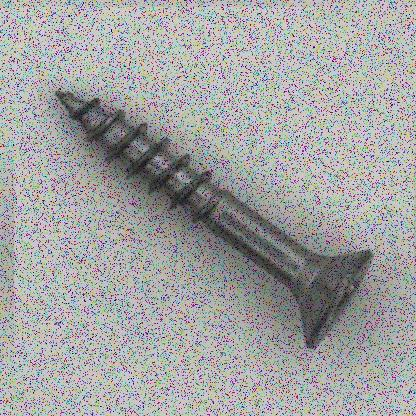metal: (54, 87, 373, 349)
